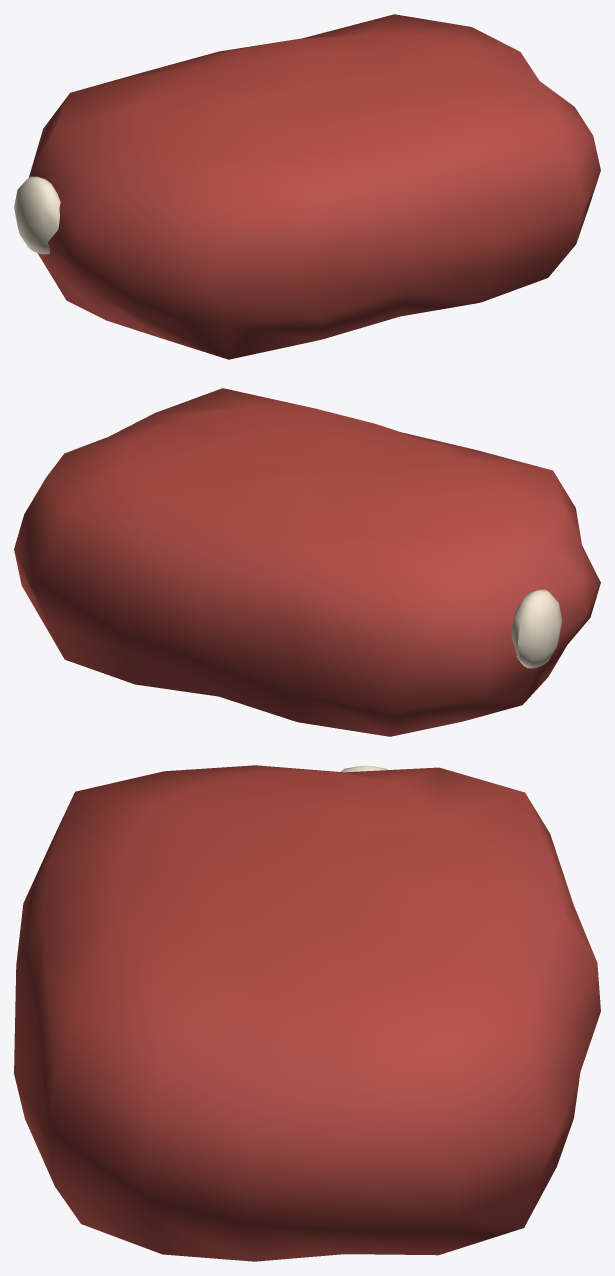
The model's file is gale_ram_shoulder.glb.
The picture shows the model from 3 angles, top to bottom: view 1: azimuth 30°, elevation 25°; view 2: azimuth 150°, elevation 25°; view 3: azimuth 270°, elevation 25°; orthographic projection. The views are drawn at different scales.
Parts seen in each view (by area): view 1: gale_ram_shoulder; view 2: gale_ram_shoulder; view 3: gale_ram_shoulder.
Part boxes in pixels (x1,y1,x2,y2): gale_ram_shoulder: (14, 14, 600, 359); gale_ram_shoulder: (14, 388, 600, 736); gale_ram_shoulder: (14, 765, 600, 1261).
Bounding box in the file's own units: 0.16 × 0.055 × 0.11.
